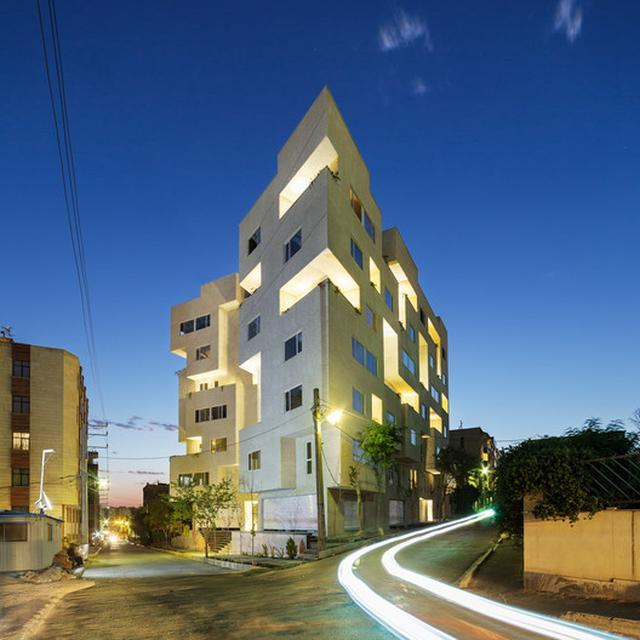building: (163, 85, 451, 542), (0, 334, 102, 566)
